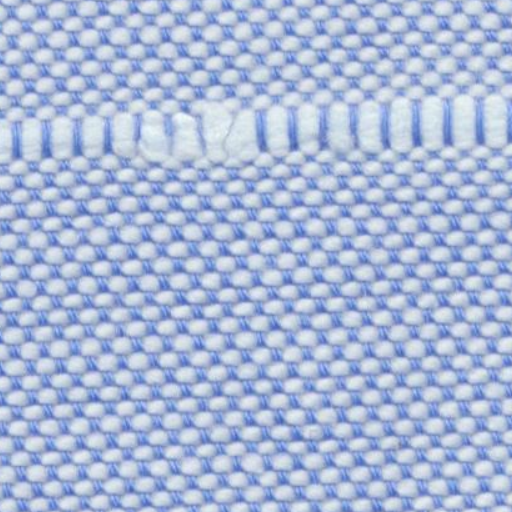DaiSha: (5, 88, 504, 166)
